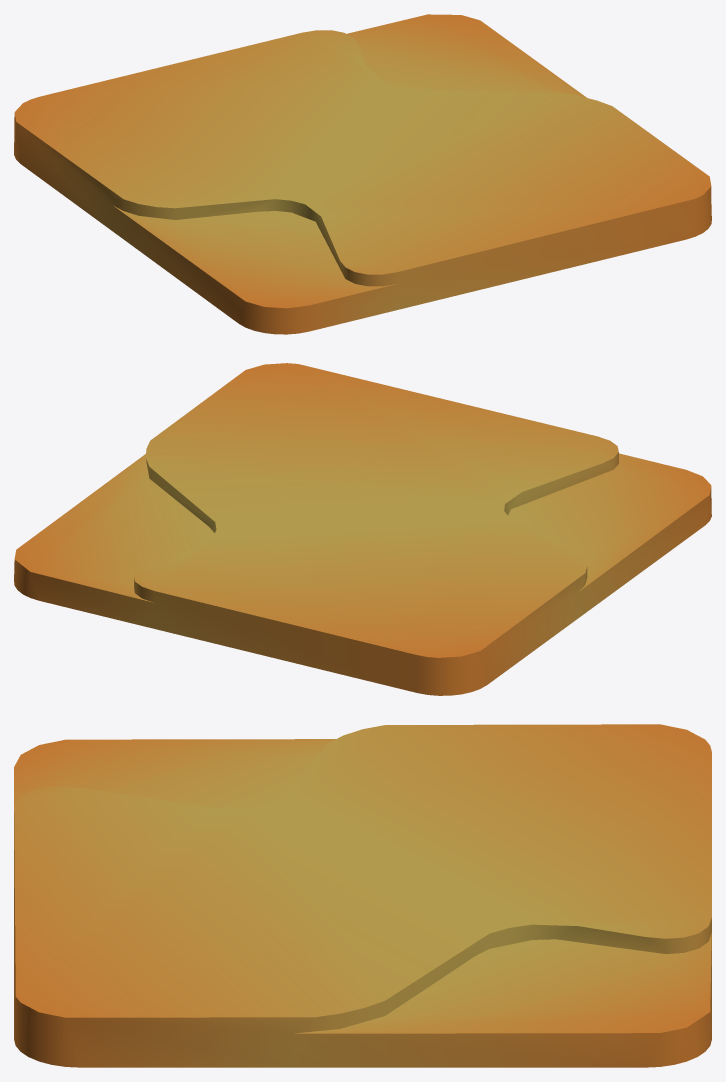
The picture shows the model from 3 angles, top to bottom: view 1: azimuth 30°, elevation 25°; view 2: azimuth 150°, elevation 25°; view 3: azimuth 270°, elevation 25°; orthographic projection. The views are drawn at different scales.
Visible parts, largest first — view 1: LOD 1_332424658592034533_2d0e7e9e3a92c6c43b8ba9db1d431990; view 2: LOD 1_332424658592034533_2d0e7e9e3a92c6c43b8ba9db1d431990; view 3: LOD 1_332424658592034533_2d0e7e9e3a92c6c43b8ba9db1d431990.
Boxes of the visible parts, left/top/right/bottom form: LOD 1_332424658592034533_2d0e7e9e3a92c6c43b8ba9db1d431990: left=14, top=14, right=711, bottom=334; LOD 1_332424658592034533_2d0e7e9e3a92c6c43b8ba9db1d431990: left=14, top=363, right=711, bottom=695; LOD 1_332424658592034533_2d0e7e9e3a92c6c43b8ba9db1d431990: left=14, top=724, right=711, bottom=1067.
Bounding box in the file's own units: 5.67 × 0.44 × 5.67.
